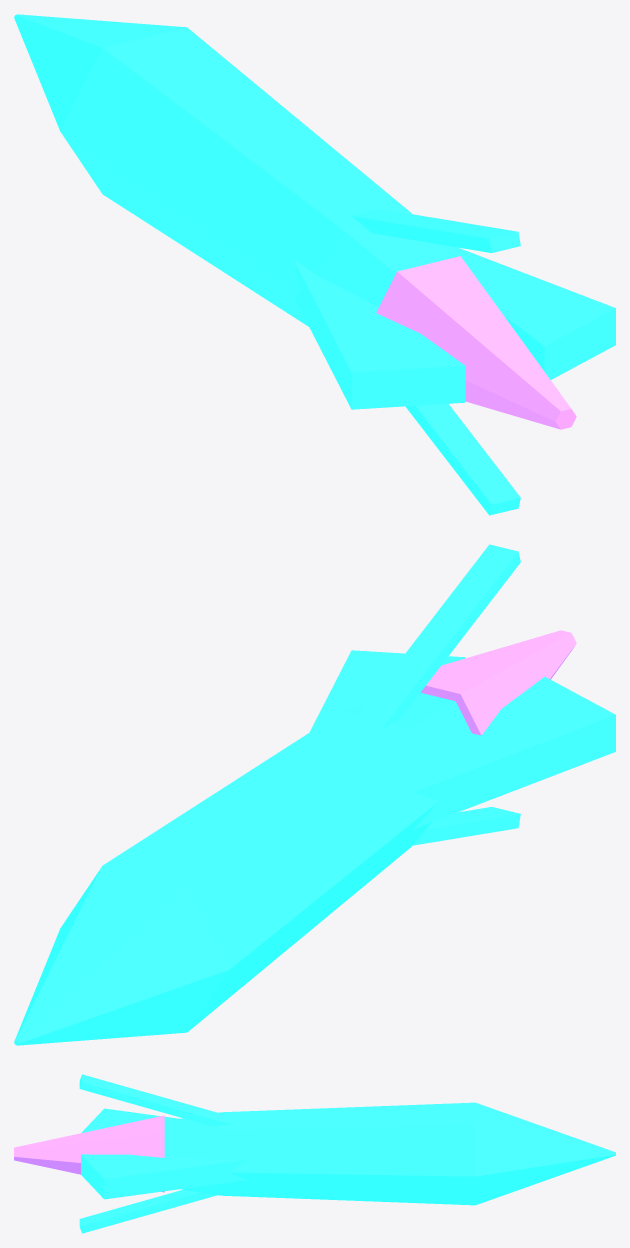
File: fx-bolt-23d10cbb.glb
3 views of the same model, one above another, from view 1: azimuth 30°, elevation 25°; view 2: azimuth 150°, elevation 25°; view 3: azimuth 270°, elevation 25° (orthographic). The views are drawn at different scales.
Parts seen in each view (by area): view 1: nose_forward, fx-bolt_body, tail_rear; view 2: nose_forward, fx-bolt_body, tail_rear; view 3: nose_forward, fx-bolt_body, tail_rear.
Part boxes in pixels (x1,y1,x2,y2): nose_forward: (14,14,449,326); fx-bolt_body: (293,209,615,515); tail_rear: (376,256,576,429); nose_forward: (14,692,471,1045); fx-bolt_body: (309,544,615,845); tail_rear: (421,630,576,735); nose_forward: (164,1102,615,1205); fx-bolt_body: (79,1074,246,1233); tail_rear: (14,1115,164,1192).
Size of the model in its own units: 0.5 by 0.5 by 1.8.
